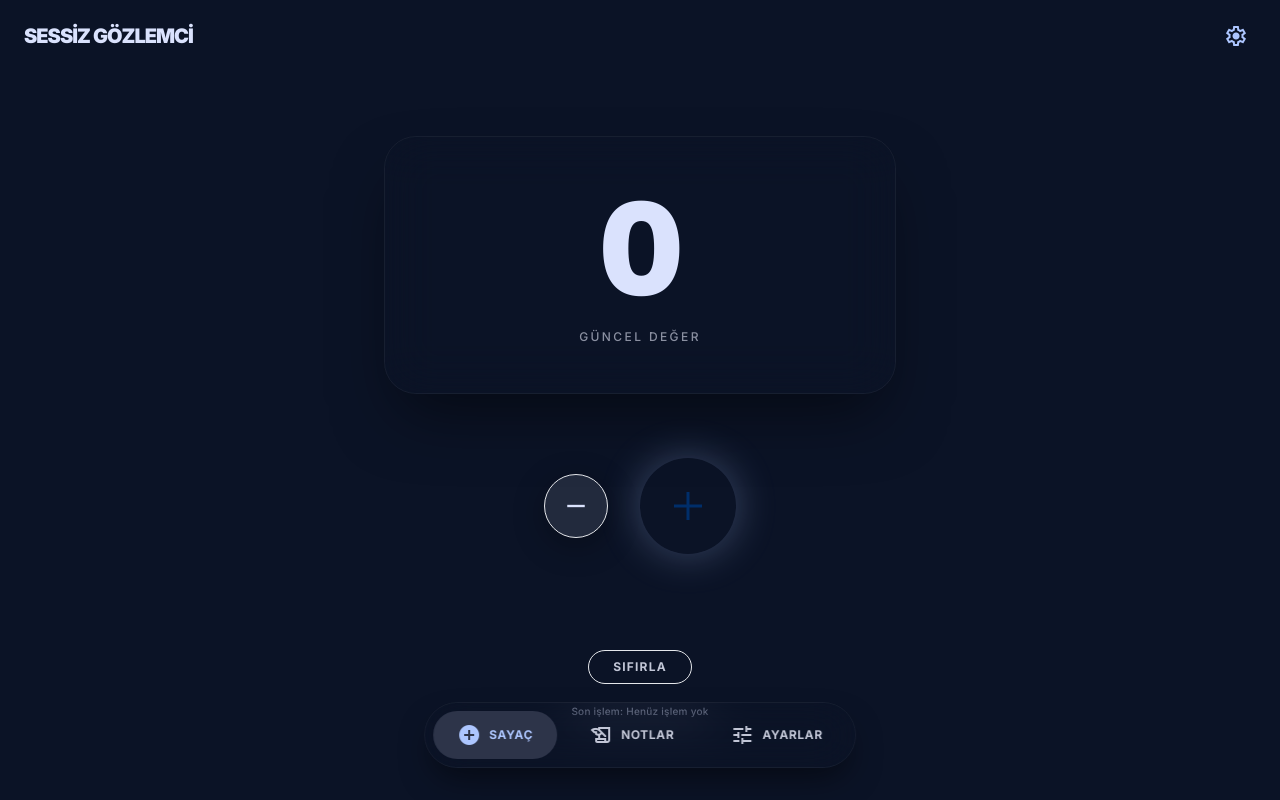
Test: App integration › decrements counter
Click the 2nd button "remove" at (576, 506), box [544,474,608,538]
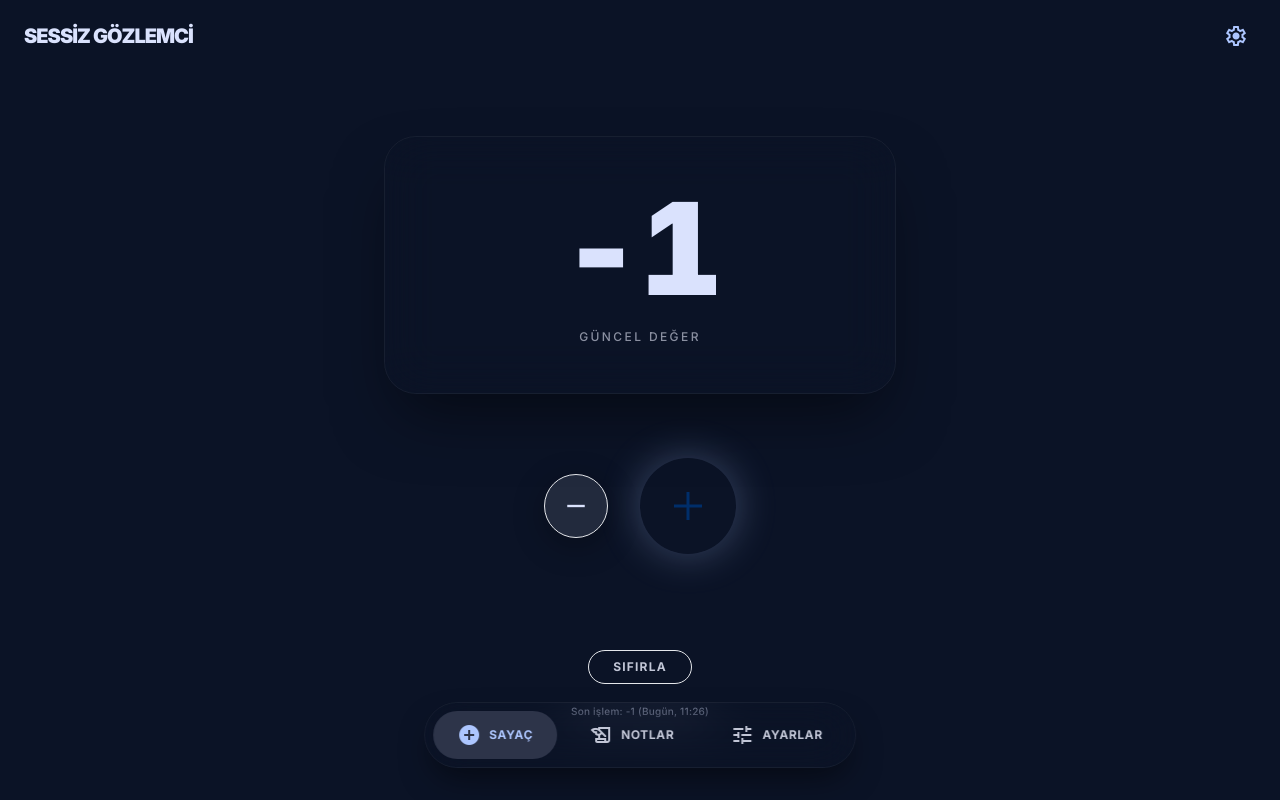
Check: the text "-1" is shown, box [560,185,720,313]
